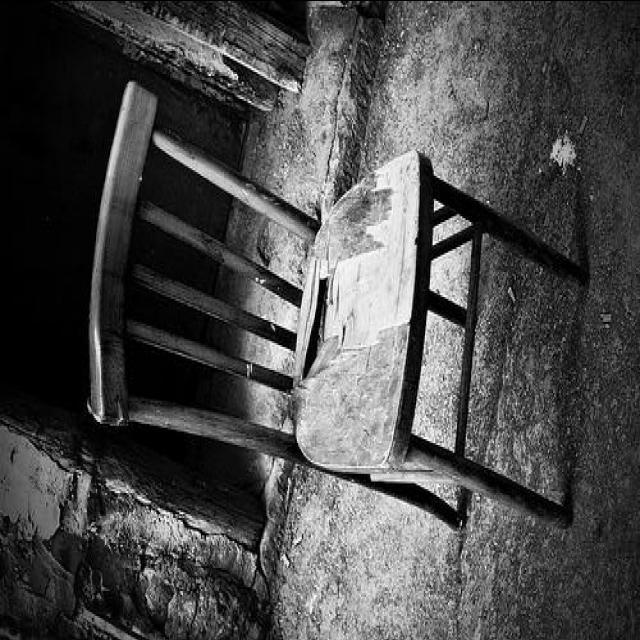chair: (83, 64, 583, 538)
